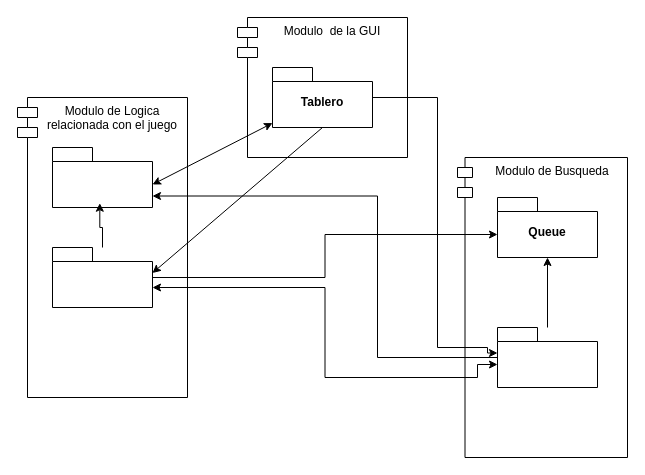
This 645x475 diagram has some shape labels left out. Here are the shapes that lost their labels. From the top down, the centre of each, then its label:
At (x=102, y=177): "Laberinto".
At (x=102, y=277): "Basic".
At (x=547, y=357): "Search".
